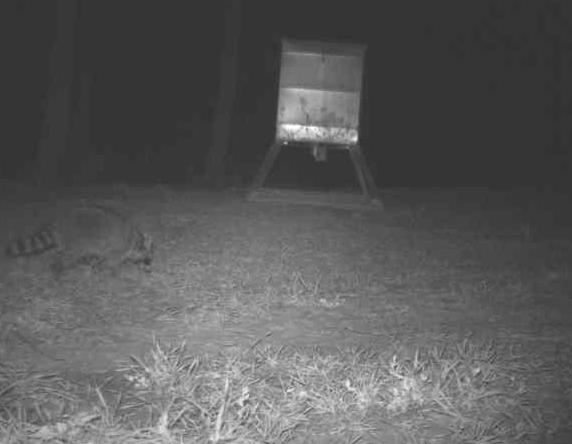Raccoon: (13, 200, 153, 285)
